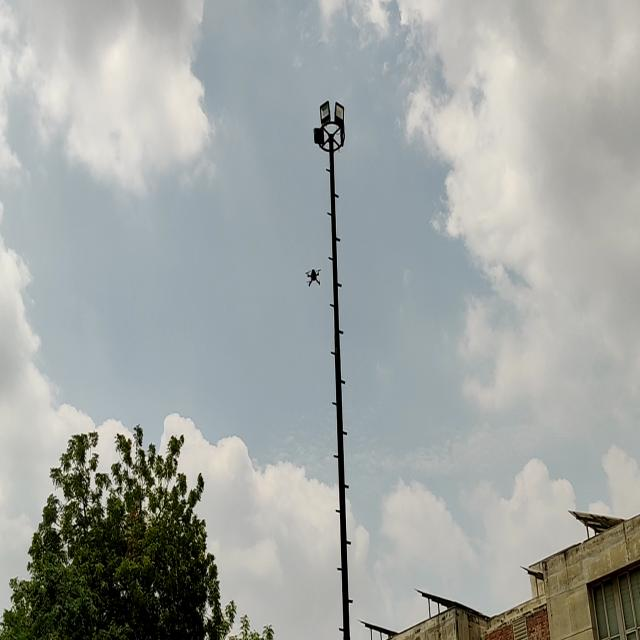drone: (303, 255, 326, 292)
